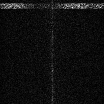wifi: (1, 2, 104, 8)
